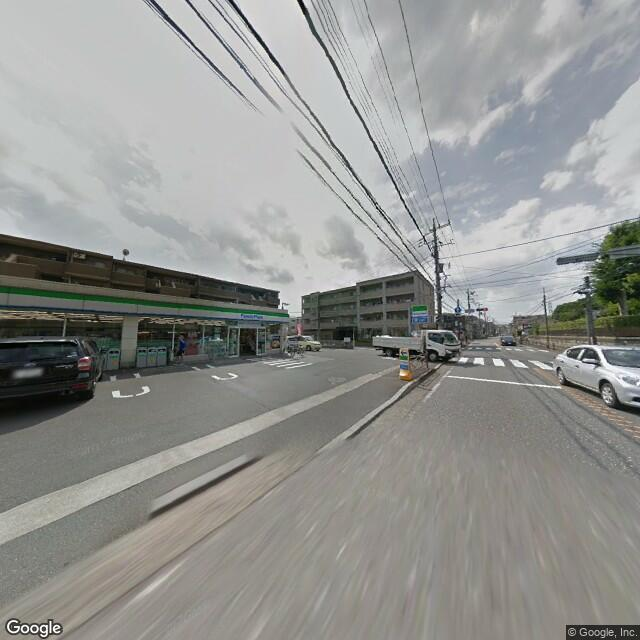family_mart: (1, 280, 291, 327), (408, 302, 428, 325)
